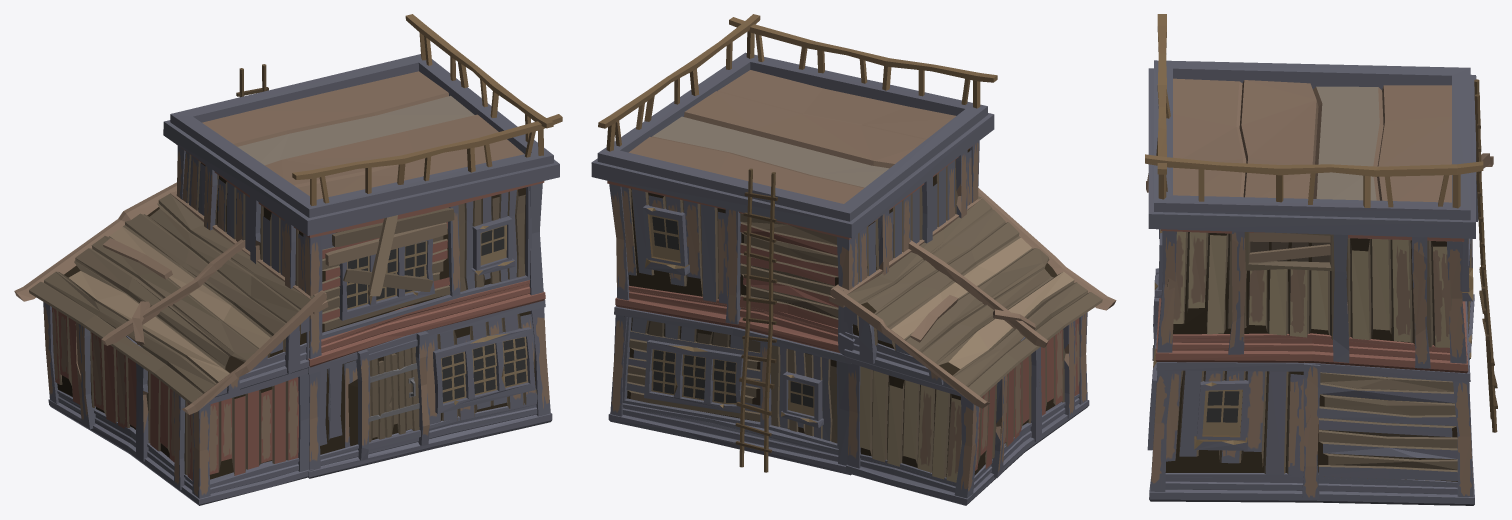
Rendered from SM_Bld_Shanty_Preset_01.glb.
3 renders of one model, left to right at view 1: azimuth 30°, elevation 25°; view 2: azimuth 150°, elevation 25°; view 3: azimuth 270°, elevation 25°, orthographic. The views are drawn at different scales.
Visible parts, largest first — view 1: SM_Bld_Shanty_Preset_01_part00; view 2: SM_Bld_Shanty_Preset_01_part00; view 3: SM_Bld_Shanty_Preset_01_part00.
Boxes of the visible parts, box(x1,y1,x2,y2) form: SM_Bld_Shanty_Preset_01_part00: box(14, 14, 562, 505); SM_Bld_Shanty_Preset_01_part00: box(591, 14, 1116, 505); SM_Bld_Shanty_Preset_01_part00: box(1145, 14, 1497, 505).
Size of the model in its own units: 8.76 by 6.48 by 5.81.
1 material, 1 textured.
